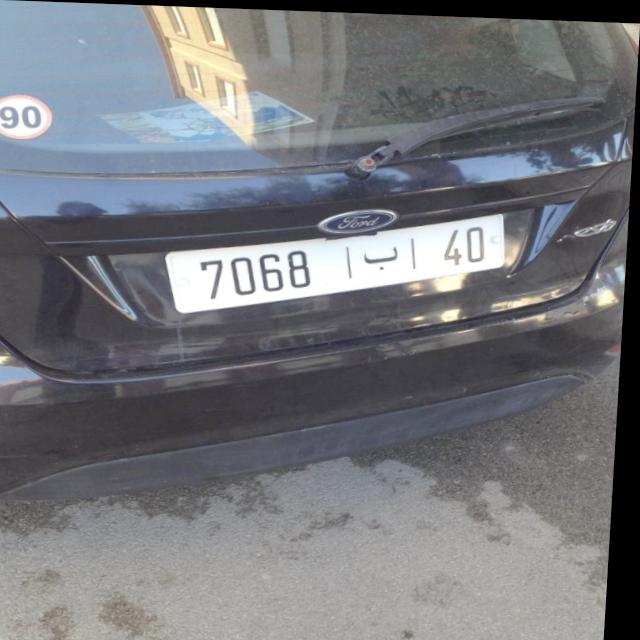License-Plate: (168, 211, 507, 311)
